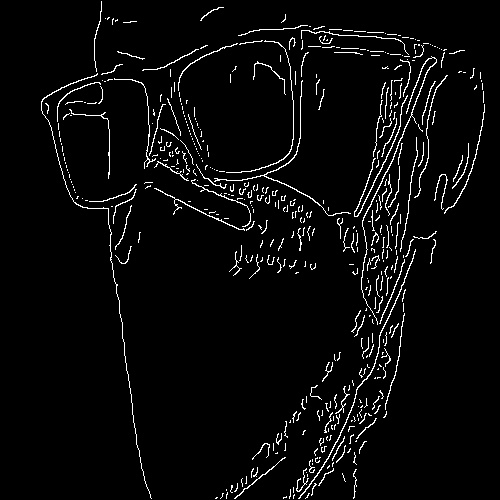mask: (91, 206, 380, 500)
